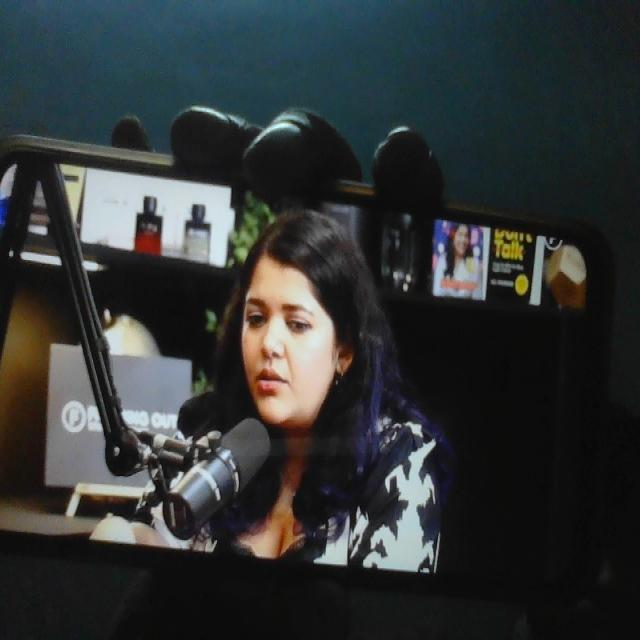fake: (233, 211, 353, 437)
